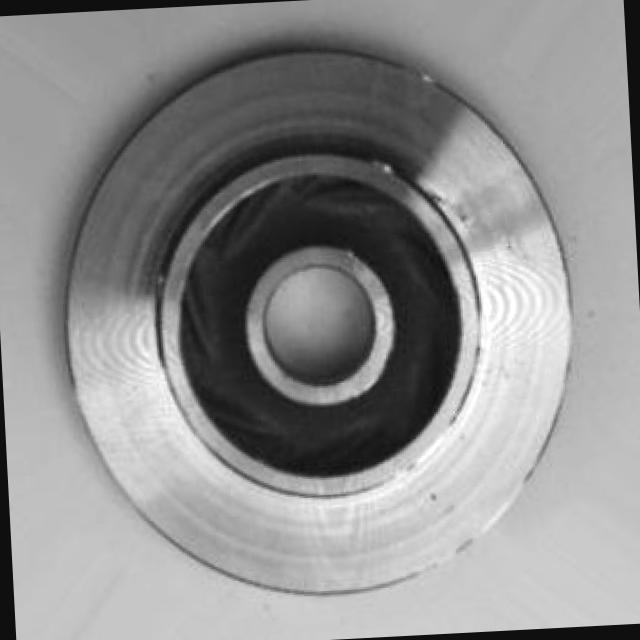Defect: (368, 151, 407, 190)
